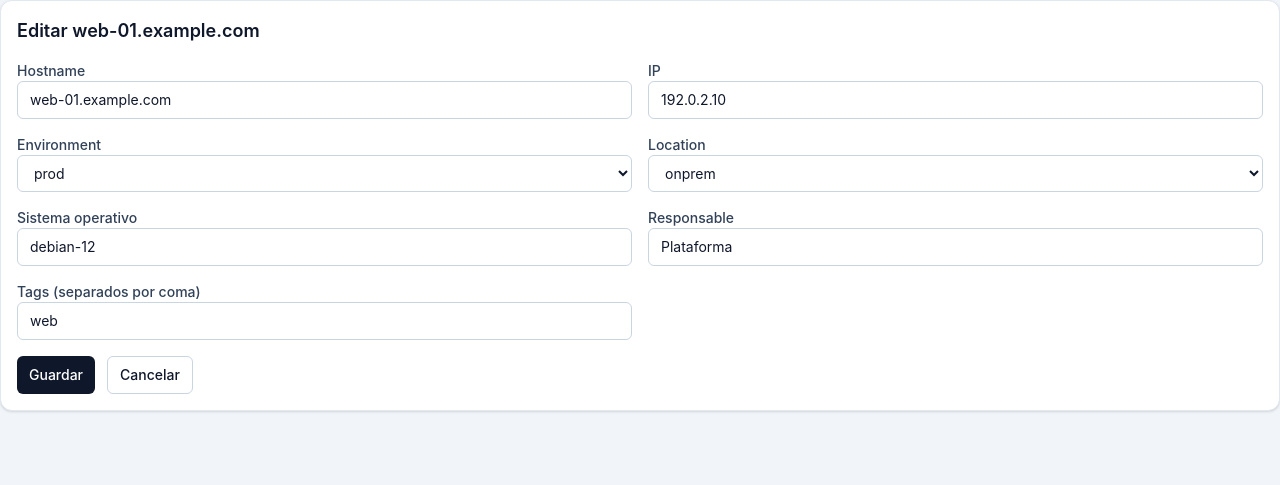
Scenario: ServerForm › muestra el detalle de validación junto al campo
Click the button "Guardar": (56, 375) [17,356,95,394]
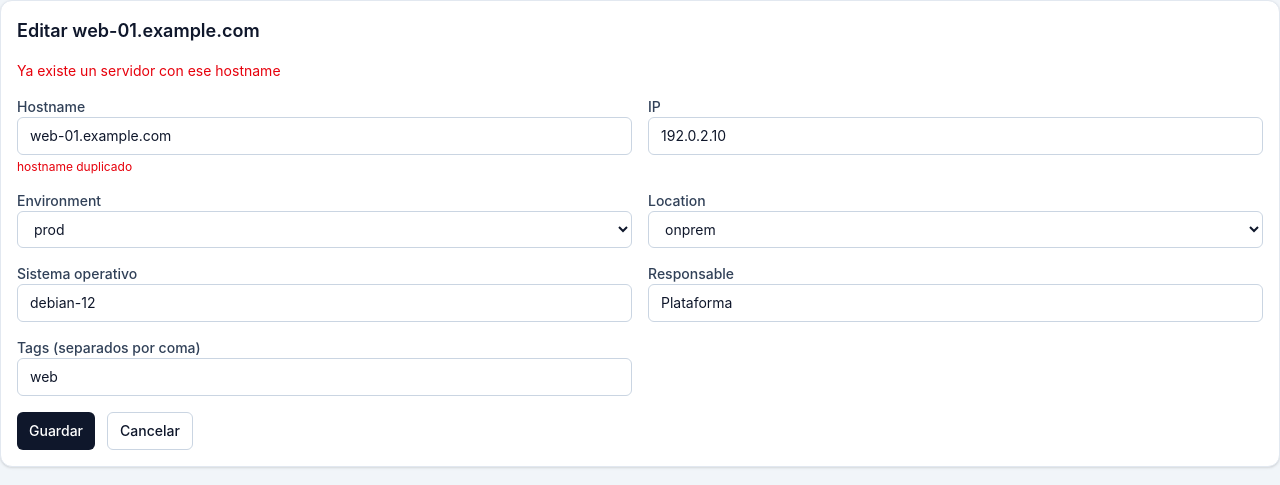
Now the text "hostname duplicado" is shown, box [17,159,132,174]
Now the message reads "Ya existe un servidor con ese hostname", box [17,62,280,79]
